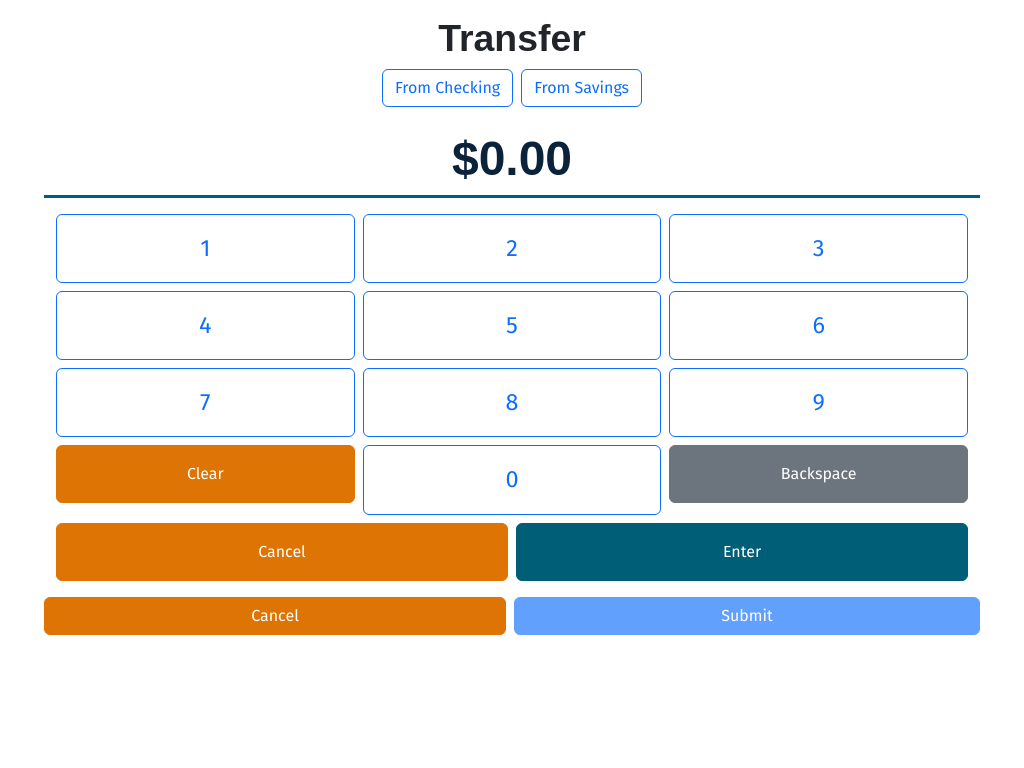
Scenario: operation pages › transfer_to_account_is_the_other_account
Click the button with test id "account-checking": (448, 88) [382,69,513,107]
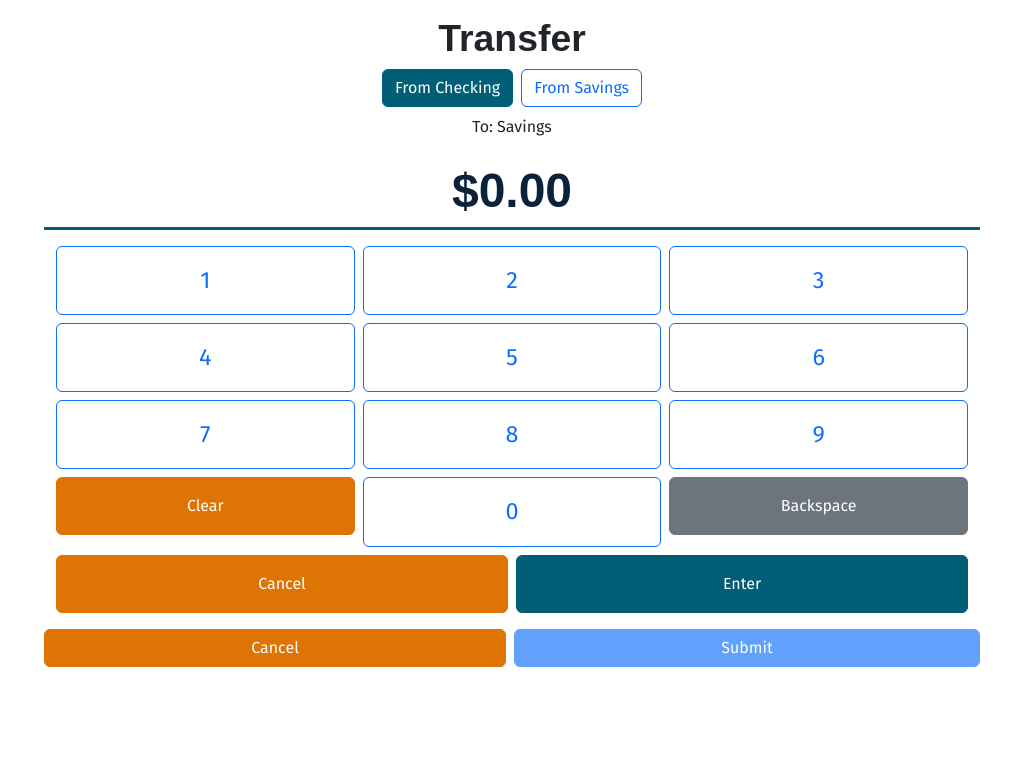
Check: the text with test id "to-account" reads "To: Savings", box [472,117,552,136]
Click the button with test id "account-savings": (582, 88) [521,69,642,107]
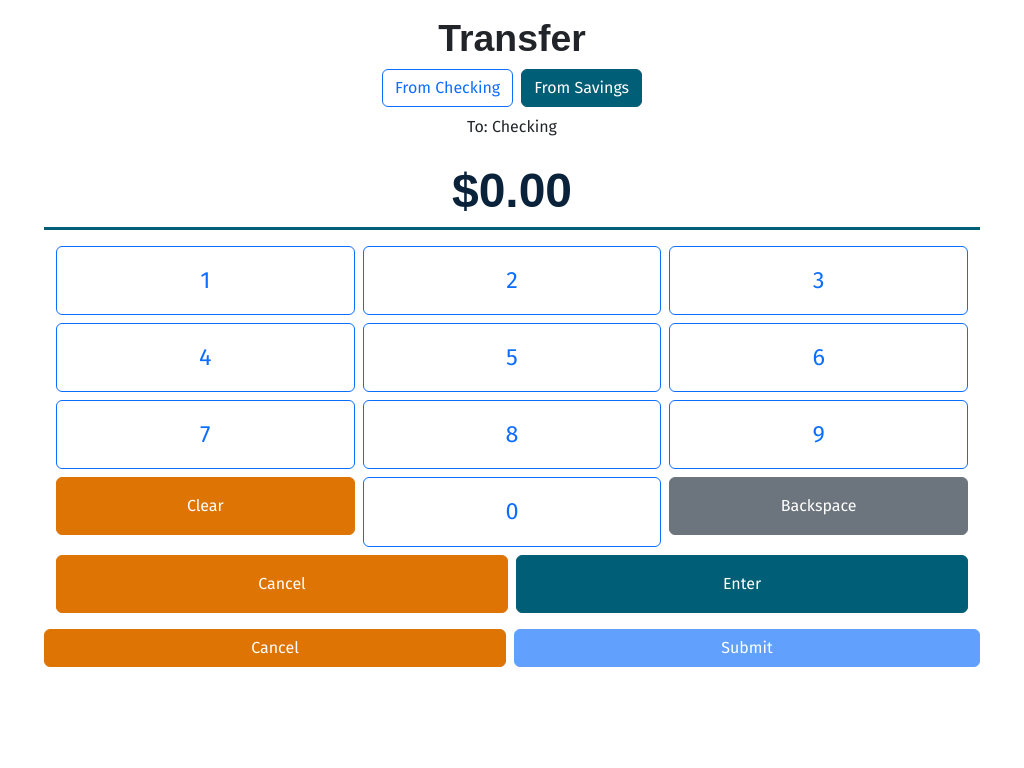
Check: the text with test id "to-account" reads "To: Checking", box [467,117,557,136]
